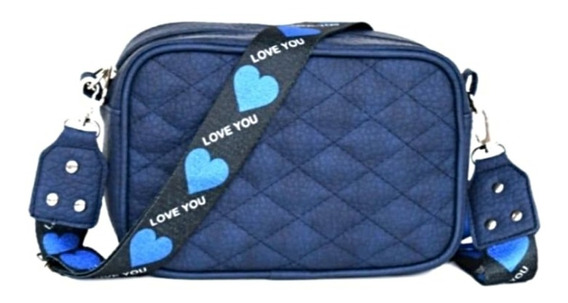cartera: (28, 17, 541, 287)
